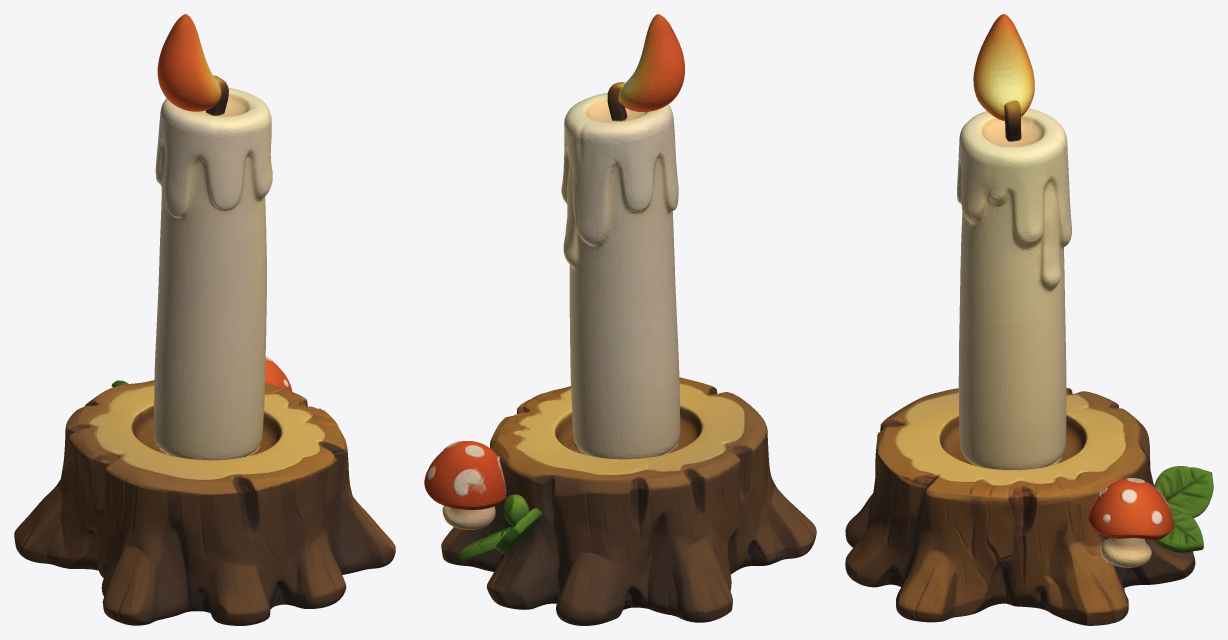
File: candle_6.glb
3 views of the same model, side by side, from view 1: azimuth 30°, elevation 25°; view 2: azimuth 150°, elevation 25°; view 3: azimuth 270°, elevation 25° (orthographic). The views are drawn at different scales.
Parts seen in each view (by area): view 1: tripo_node_4dbe7b32-7967-4189-80c5-0546763e22fc; view 2: tripo_node_4dbe7b32-7967-4189-80c5-0546763e22fc; view 3: tripo_node_4dbe7b32-7967-4189-80c5-0546763e22fc.
Part boxes in pixels (bbox=[...]): tripo_node_4dbe7b32-7967-4189-80c5-0546763e22fc: bbox=[14, 14, 395, 625]; tripo_node_4dbe7b32-7967-4189-80c5-0546763e22fc: bbox=[424, 14, 816, 625]; tripo_node_4dbe7b32-7967-4189-80c5-0546763e22fc: bbox=[845, 14, 1213, 625].
Bounding box in the file's own units: 0.532 × 0.9777 × 0.6107.
1 material, 1 textured.
